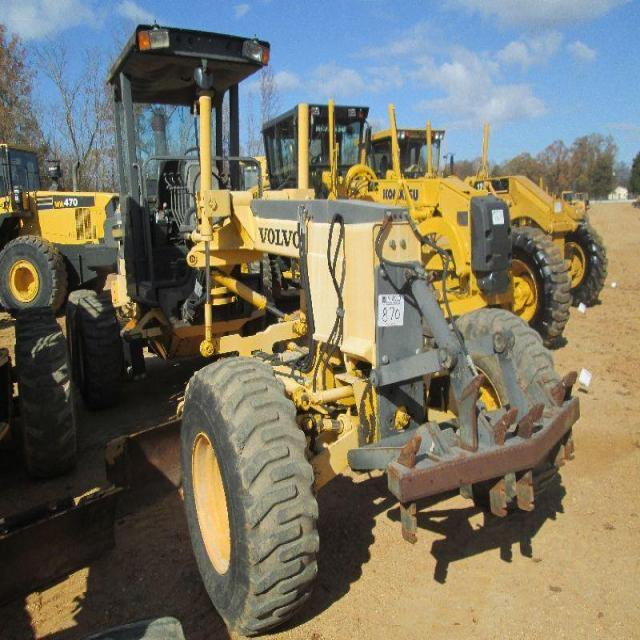Grader: (61, 8, 594, 630)
